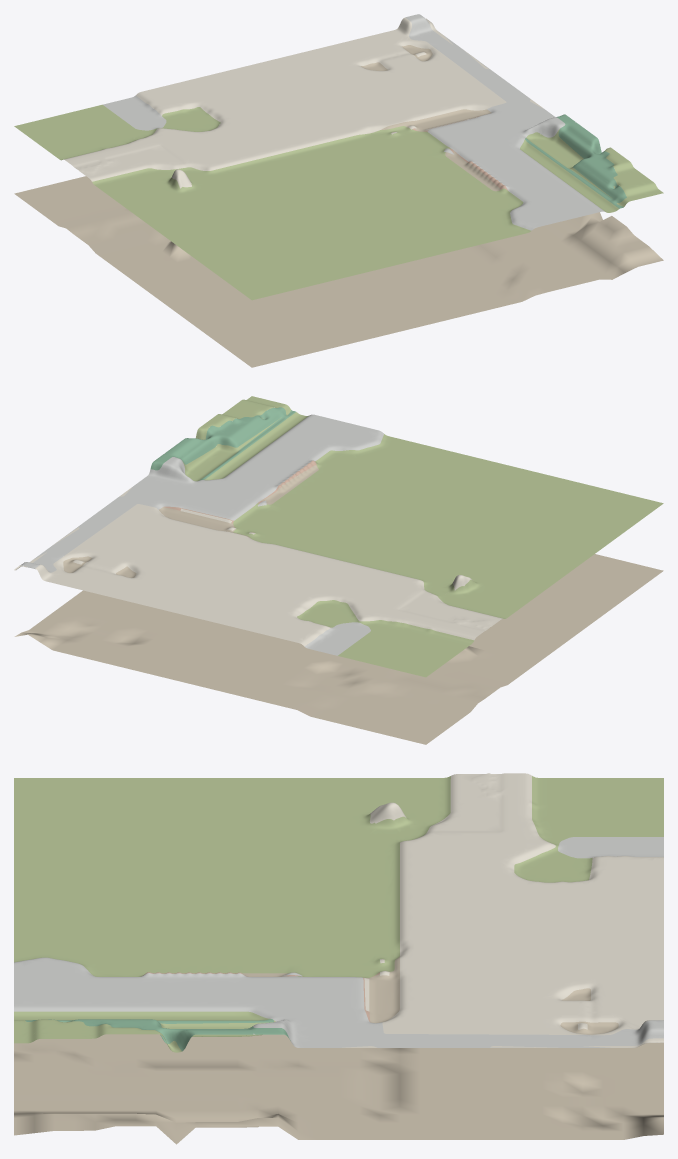
3 views of the same model, one above another, from view 1: azimuth 30°, elevation 25°; view 2: azimuth 150°, elevation 25°; view 3: azimuth 270°, elevation 25° (orthographic). The views are drawn at different scales.
Parts seen in each view (by area): view 1: s_-2_0__grass, s_-2_0__soil, s_-2_0__paving, s_-2_0__stone_paving, s_-2_0__green_court; view 2: s_-2_0__grass, s_-2_0__soil, s_-2_0__paving, s_-2_0__stone_paving, s_-2_0__green_court; view 3: s_-2_0__grass, s_-2_0__soil, s_-2_0__paving, s_-2_0__stone_paving, s_-2_0__green_court.
Boxes of the visible parts, x1,y1,x2,y2 form: s_-2_0__grass: [14, 104, 663, 300]; s_-2_0__soil: [14, 45, 663, 367]; s_-2_0__paving: [64, 17, 543, 188]; s_-2_0__stone_paving: [103, 14, 604, 230]; s_-2_0__green_court: [525, 114, 626, 208]; s_-2_0__grass: [182, 396, 663, 677]; s_-2_0__soil: [14, 465, 663, 744]; s_-2_0__paving: [14, 487, 502, 646]; s_-2_0__stone_paving: [20, 414, 383, 655]; s_-2_0__green_court: [150, 407, 295, 480]; s_-2_0__grass: [14, 776, 663, 1052]; s_-2_0__soil: [14, 956, 663, 1144]; s_-2_0__paving: [342, 773, 663, 1047]; s_-2_0__stone_paving: [14, 837, 663, 1047]; s_-2_0__green_court: [25, 1019, 290, 1051].
Bounding box in the file's own units: 128 × 24.01 × 128.
